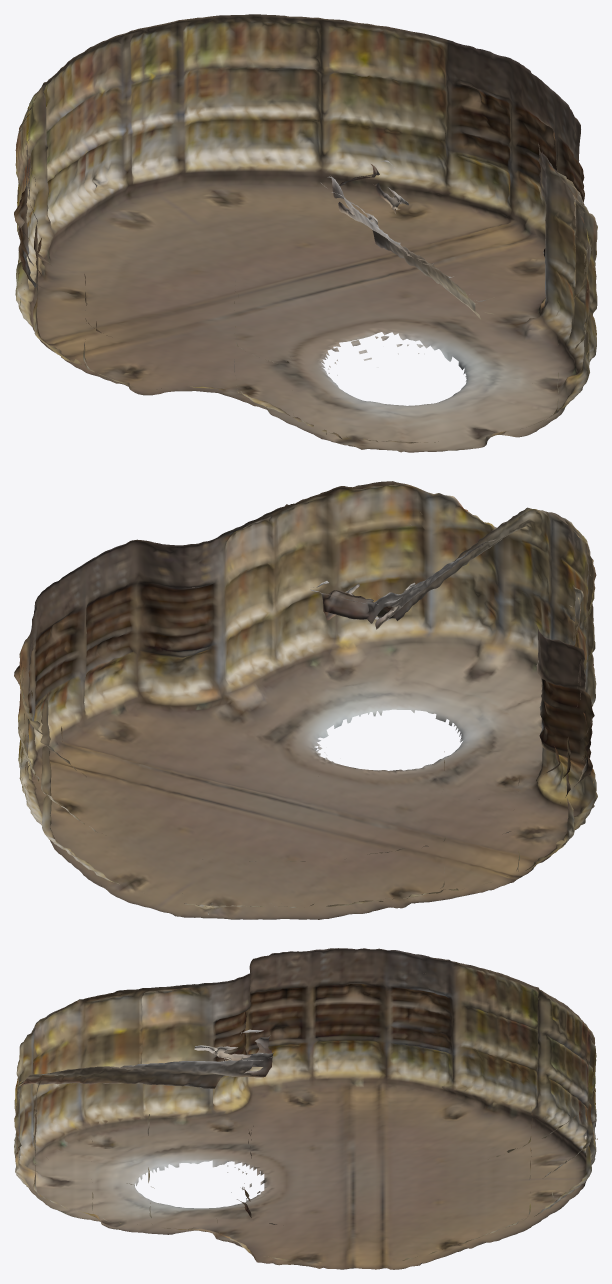
Rendered from world-1769950699313.glb.
3 renders of one model, top to bottom at view 1: azimuth 30°, elevation 25°; view 2: azimuth 150°, elevation 25°; view 3: azimuth 270°, elevation 25°, orthographic. The views are drawn at different scales.
Parts seen in each view (by area): view 1: world; view 2: world; view 3: world.
Part boxes in pixels (x1,y1,x2,y2): world: (14,14,597,452); world: (14,481,597,919); world: (14,948,597,1269).
Size of the model in its own units: 4.33 by 1.51 by 5.29.
